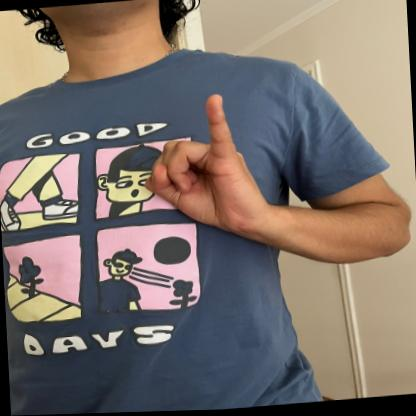I: (140, 85, 272, 240)
